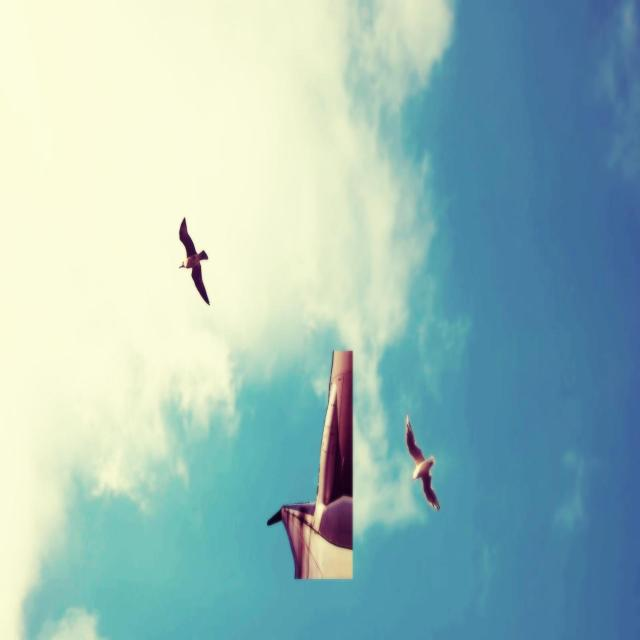airplane: (267, 348, 353, 580)
